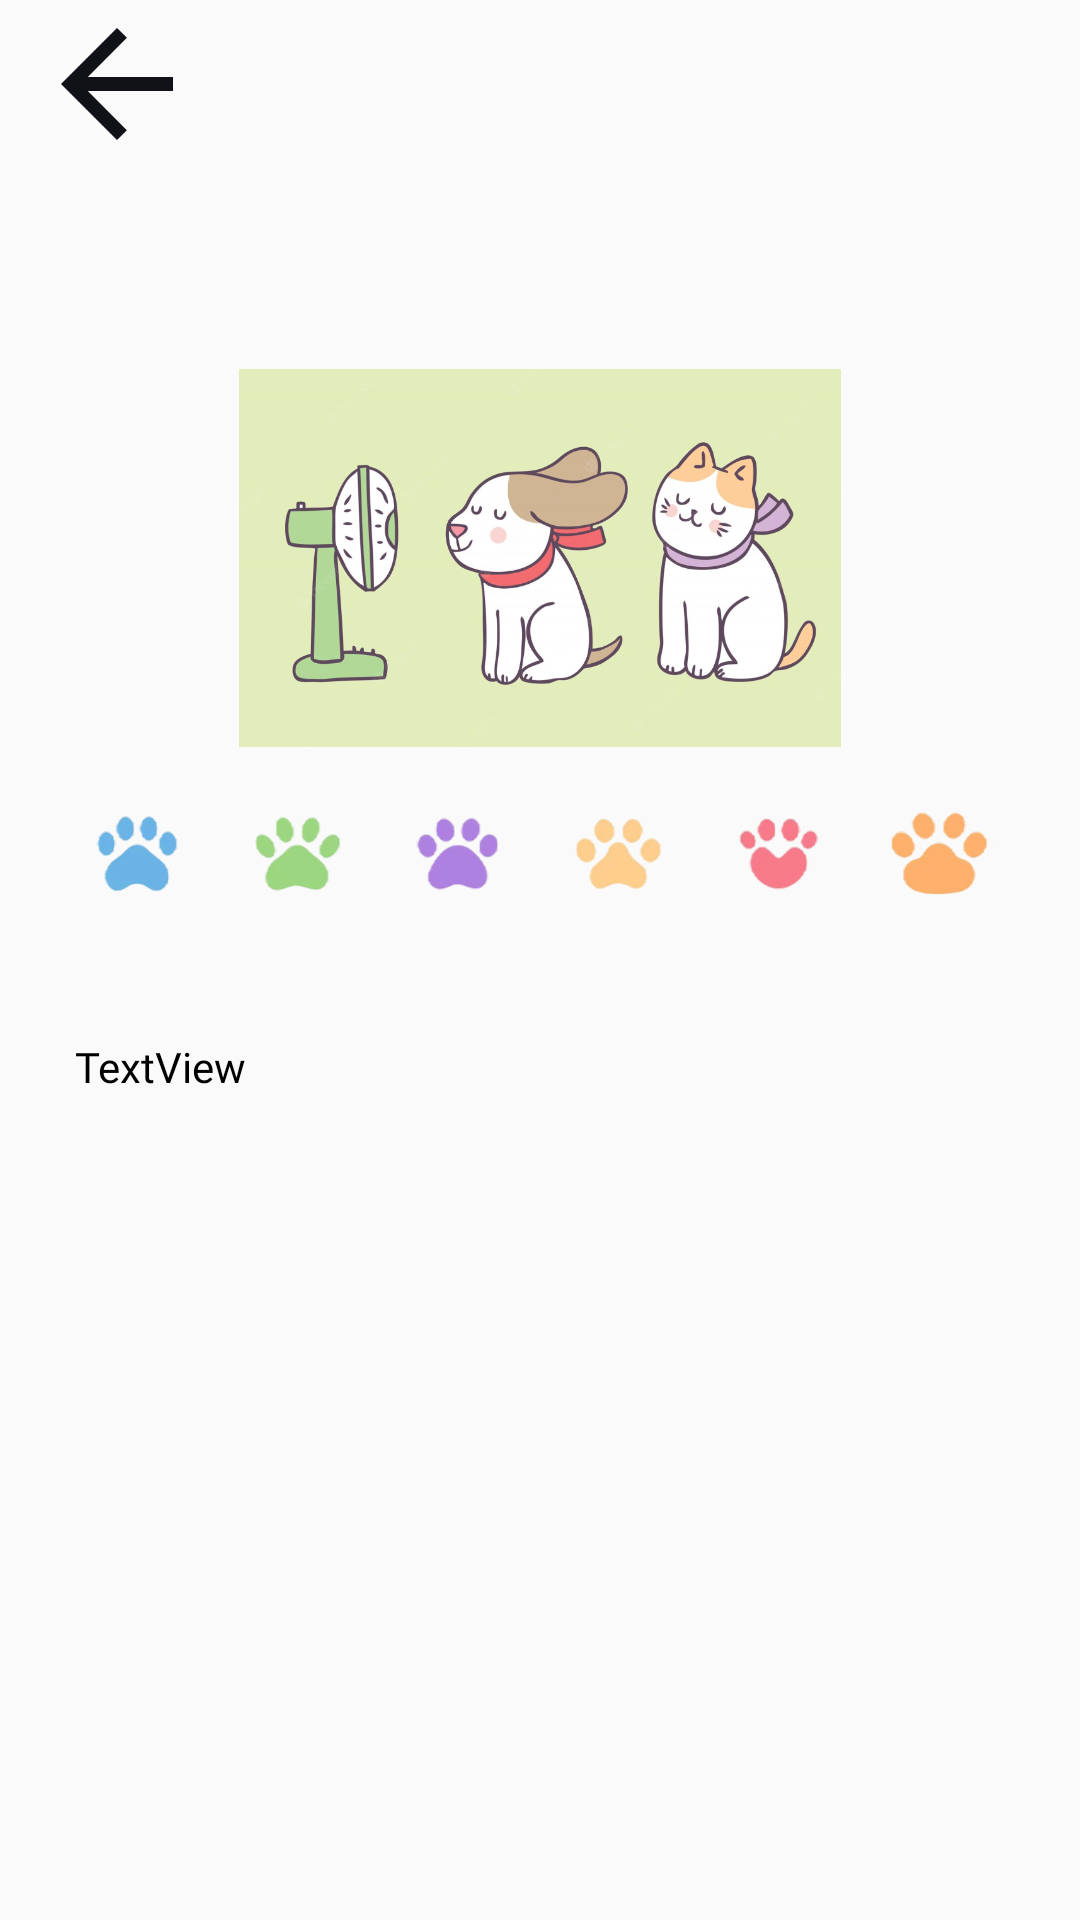

Icon click points for this 1080w x 1920h phone screenshot, format [x,y]:
arrow back: [117,84]
